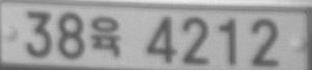1: (219, 18, 242, 65)
2: (182, 17, 209, 64), (251, 18, 278, 65)
3: (26, 10, 52, 57)
4: (147, 16, 178, 62)
8: (58, 12, 84, 58)
육: (90, 15, 121, 57)
